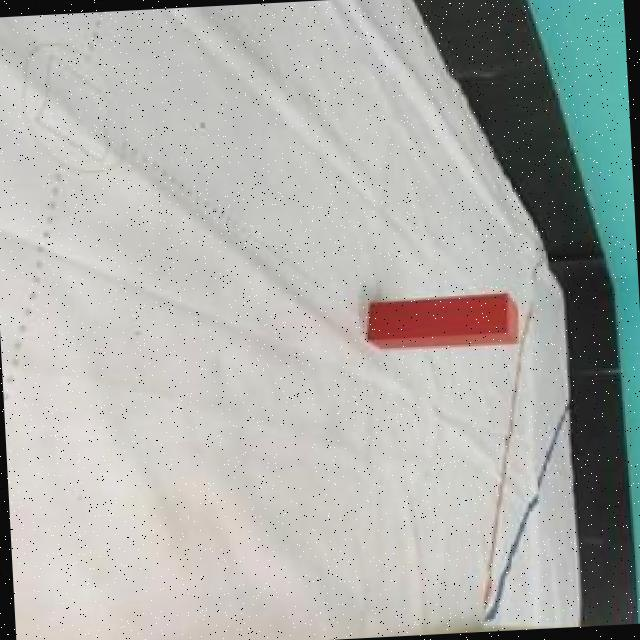redbox: (366, 288, 523, 354)
